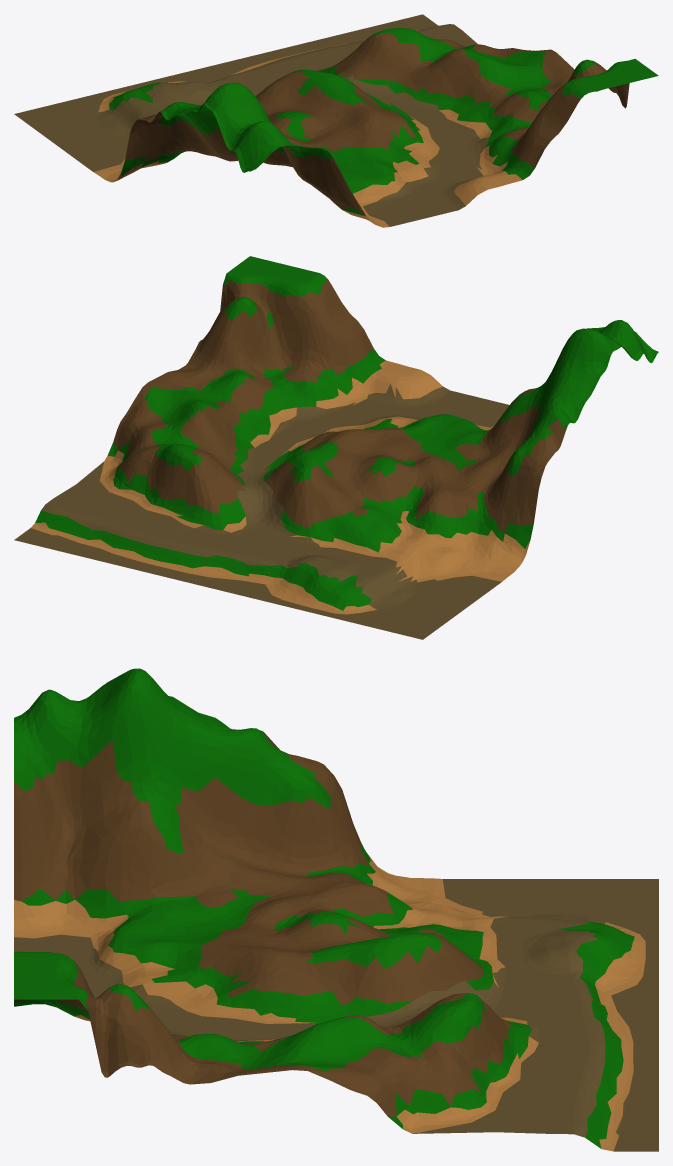
Rendered from world5.fbx.
The picture shows the model from 3 angles, top to bottom: view 1: azimuth 30°, elevation 25°; view 2: azimuth 150°, elevation 25°; view 3: azimuth 270°, elevation 25°; orthographic projection. The views are drawn at different scales.
Parts seen in each view (by area): view 1: terraa.001; view 2: terraa.001; view 3: terraa.001.
Part boxes in pixels (x1,y1,x2,y2): terraa.001: [14, 14, 658, 227]; terraa.001: [14, 256, 658, 639]; terraa.001: [14, 668, 658, 1151].
Bounding box in the file's own units: 20005 × 7669 × 20000.
